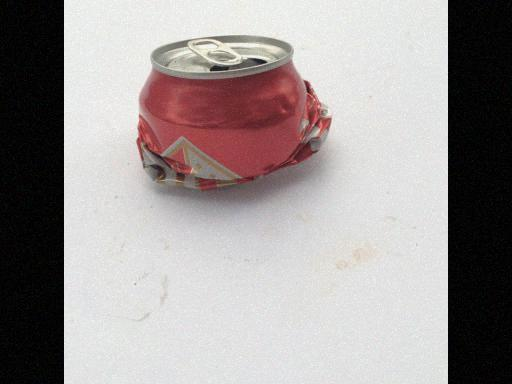metal: (136, 34, 332, 194)
